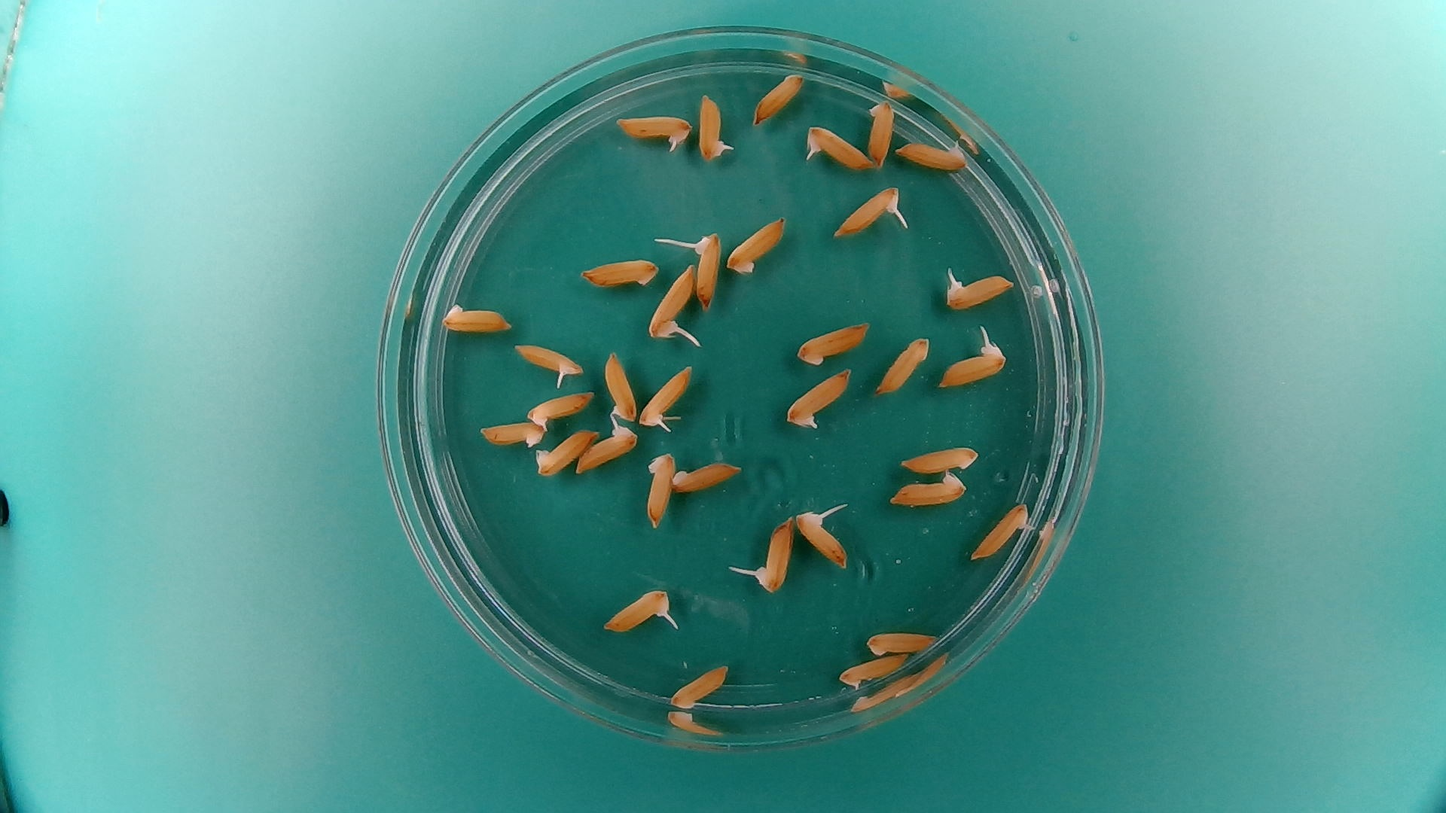no: (725, 212, 790, 276), (794, 317, 874, 366), (875, 333, 932, 395), (532, 427, 598, 477), (667, 661, 733, 709), (887, 470, 970, 508), (752, 68, 806, 124), (439, 298, 515, 335), (602, 346, 639, 422), (837, 653, 911, 691), (580, 254, 660, 289), (672, 459, 744, 495), (897, 444, 980, 475), (862, 626, 939, 658), (645, 449, 676, 528), (526, 391, 593, 425), (864, 99, 895, 166), (478, 419, 546, 449)
yes: (830, 181, 911, 240), (782, 367, 856, 431), (647, 260, 699, 341), (639, 360, 695, 434), (801, 122, 877, 172), (968, 504, 1036, 556), (795, 510, 853, 570), (604, 586, 676, 634), (614, 108, 694, 151), (571, 421, 633, 475), (936, 343, 1005, 390), (755, 521, 795, 598), (697, 89, 736, 164), (893, 137, 970, 173), (941, 274, 1012, 311), (517, 341, 585, 379), (694, 230, 722, 310)
